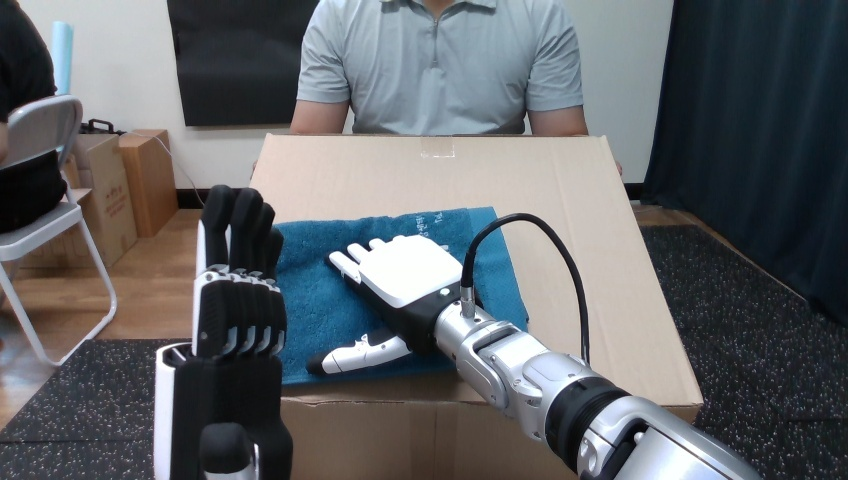left robot hand: (308, 213, 759, 479), (154, 185, 292, 478), (472, 220, 581, 358)
